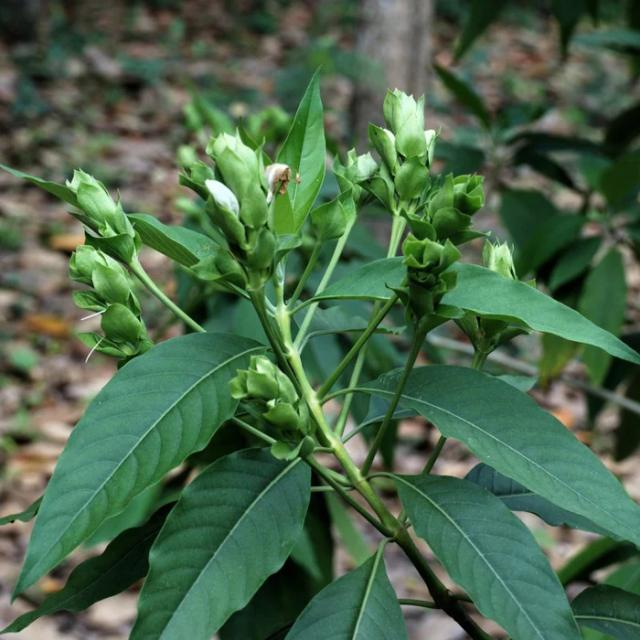Malabar Nut: (88, 249, 361, 576), (348, 48, 520, 394), (130, 139, 322, 312)
